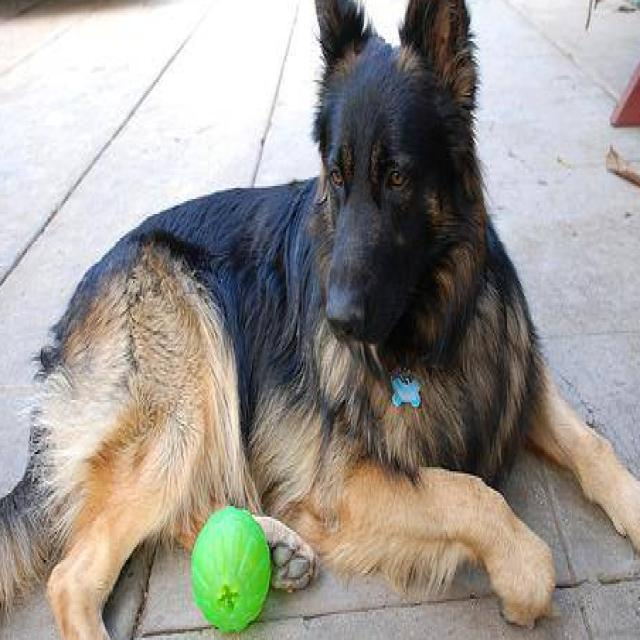sheperd: (276, 0, 524, 374)
